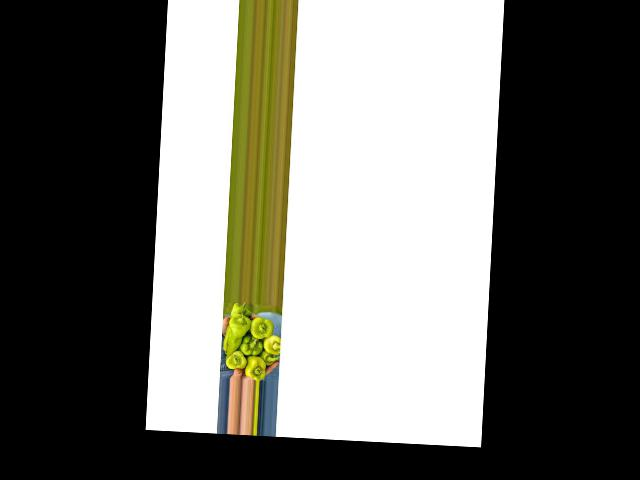bell_pepper: (245, 354, 268, 380)
